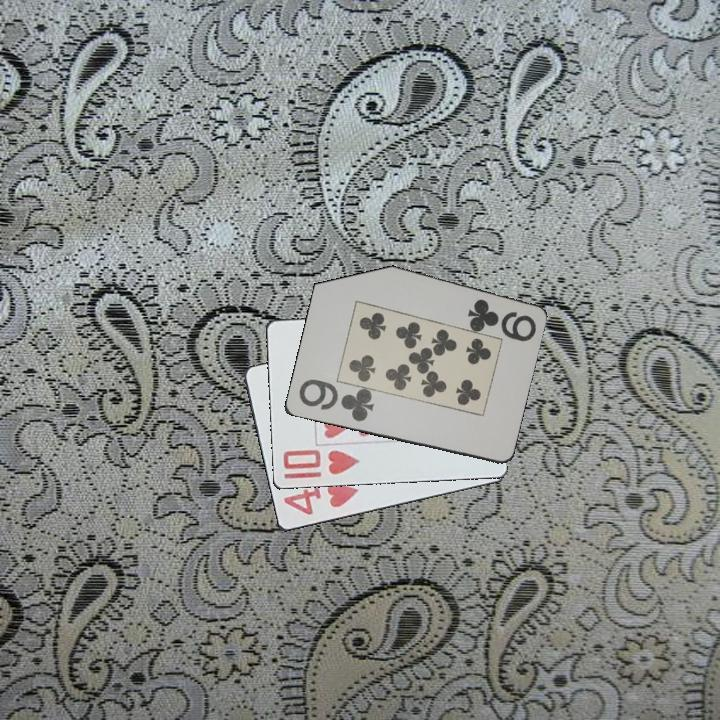4h: (280, 480, 362, 519)
9c: (295, 376, 377, 425), (463, 296, 539, 343)
Th: (279, 446, 363, 478)
